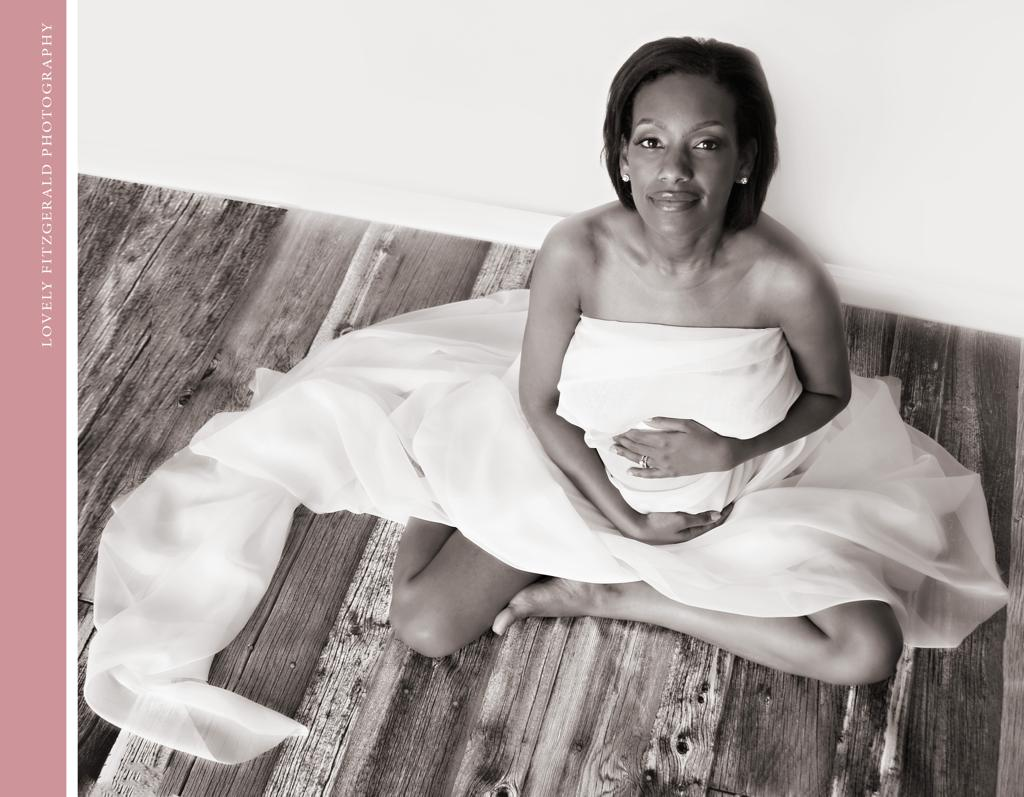face: (630, 82, 734, 234)
